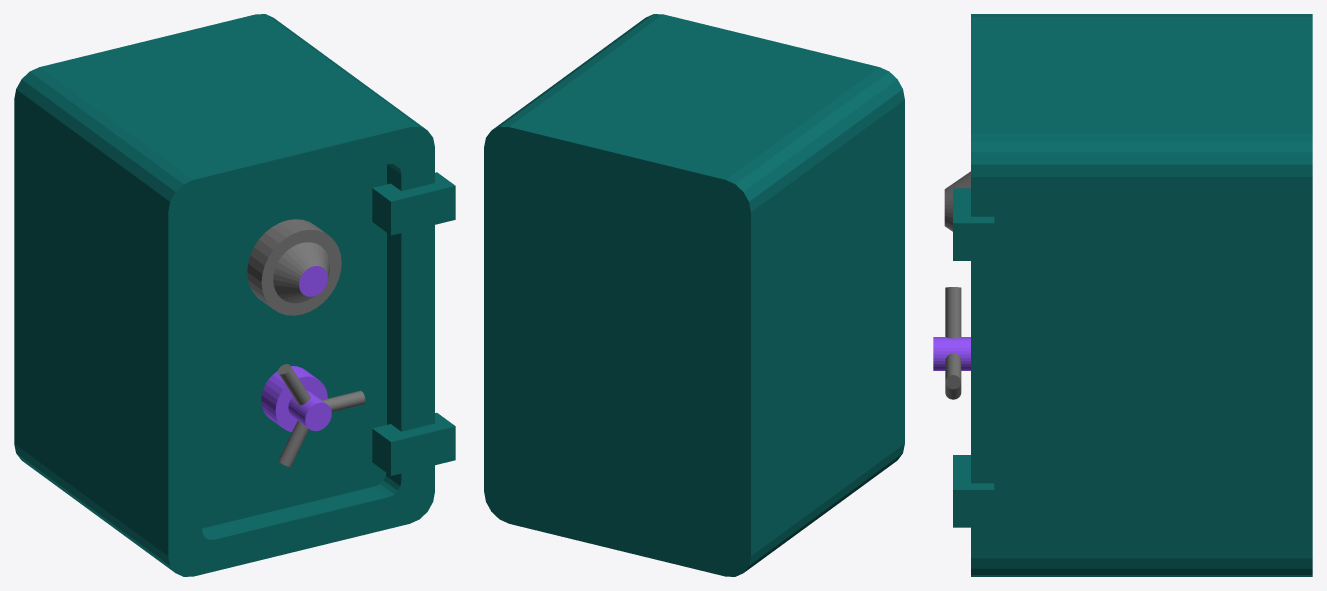
Rendered from safe.fbx.
The picture shows the model from 3 angles, left to right: view 1: azimuth 30°, elevation 25°; view 2: azimuth 150°, elevation 25°; view 3: azimuth 270°, elevation 25°; orthographic projection. The views are drawn at different scales.
Parts seen in each view (by area): view 1: Cube; view 2: Cube; view 3: Cube.
Part boxes in pixels (left/top/right/bottom): Cube: left=14, top=14, right=455, bottom=576; Cube: left=484, top=14, right=904, bottom=576; Cube: left=933, top=14, right=1312, bottom=576.
Size of the model in its own units: 209 by 284 by 222.
